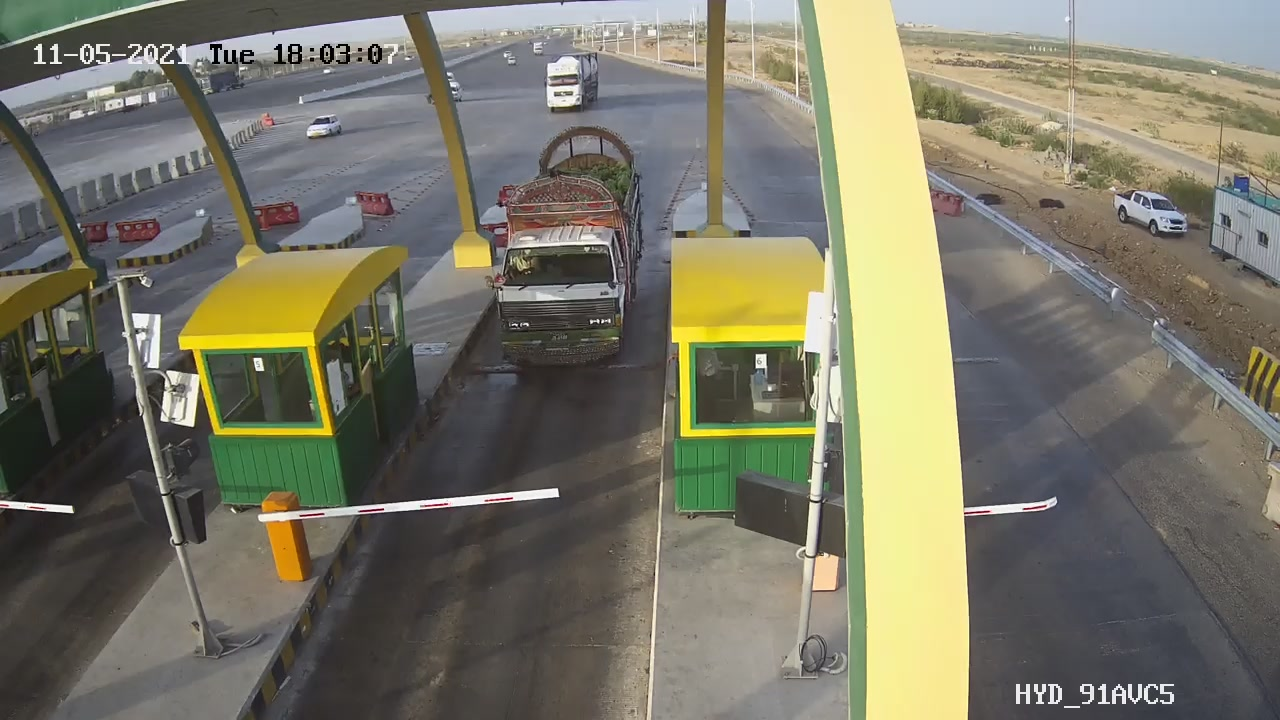F5: (473, 111, 663, 390)
